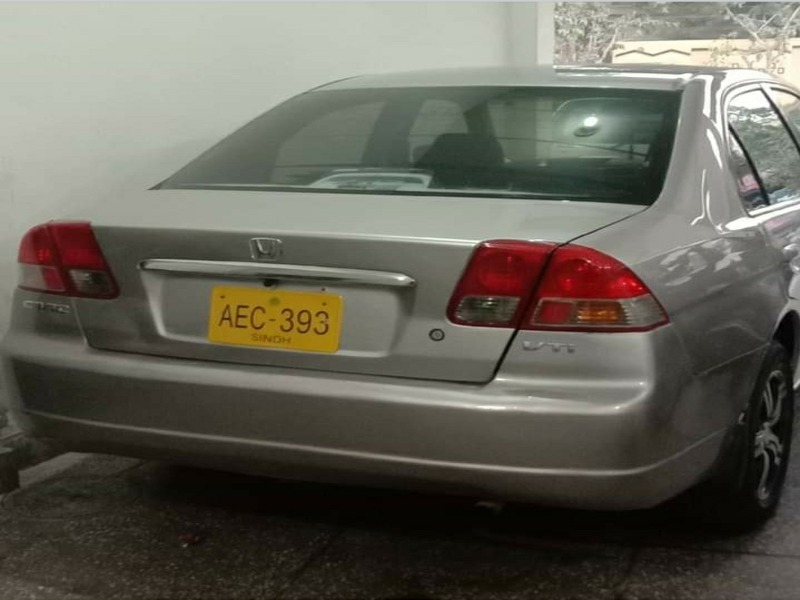License Plate: (205, 282, 344, 354)
